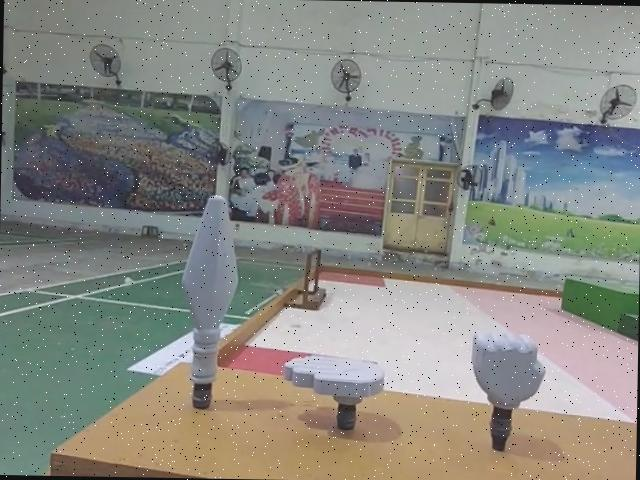Fist: (471, 328, 547, 457)
Hand: (278, 350, 381, 438)
Sph: (176, 193, 241, 416)
